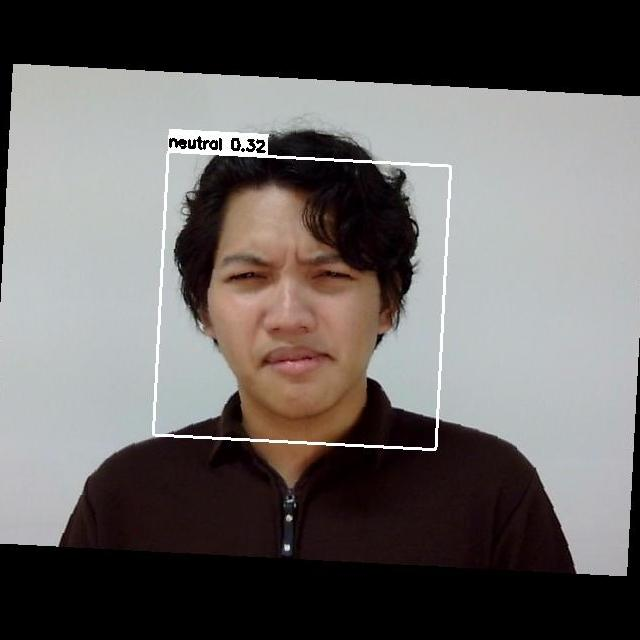Disgust: (195, 215, 400, 410)
